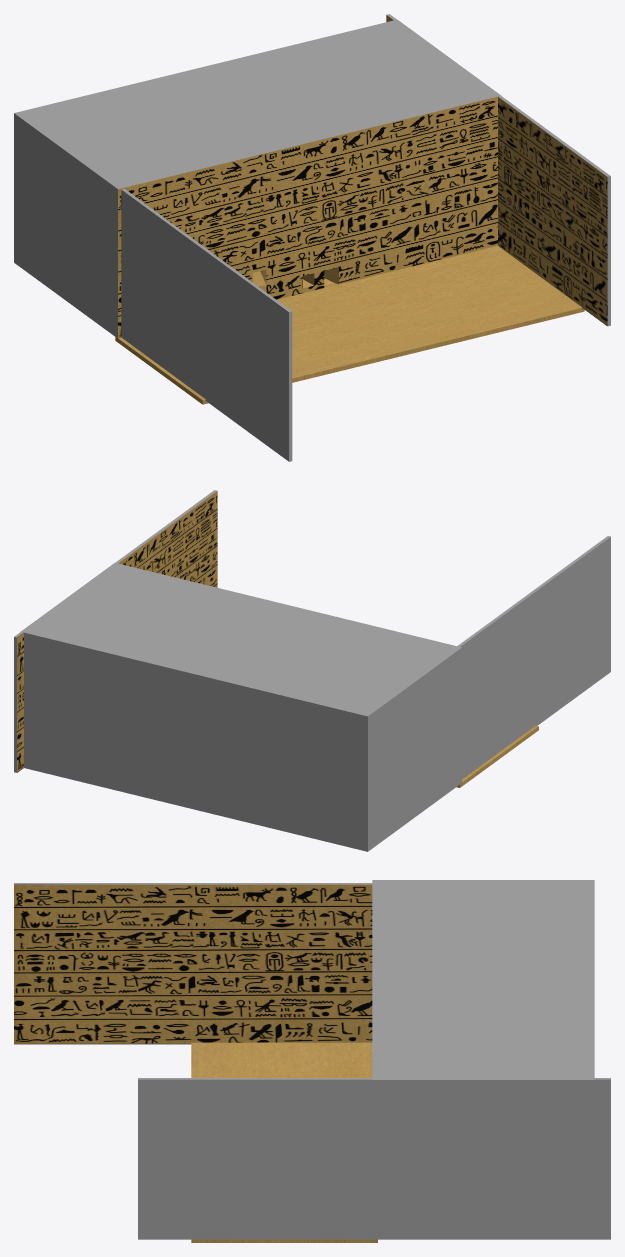
File: Ancient Tutorial Level .fbx
3 renders of one model, top to bottom at view 1: azimuth 30°, elevation 25°; view 2: azimuth 150°, elevation 25°; view 3: azimuth 270°, elevation 25°, orthographic. The views are drawn at different scales.
Parts seen in each view (by area): view 1: Background_Wall, Background_Wall2, Ground, Background_Wall1; view 2: Background_Wall, Background_Wall2, Background_Wall1, Ground; view 3: Background_Wall, Background_Wall2, Background_Wall1, Ground.
Boxes of the visible parts, <box> form: Background_Wall: <box>14,19,501,338</box>; Background_Wall2: <box>121,189,292,461</box>; Ground: <box>115,245,584,404</box>; Background_Wall1: <box>386,14,610,326</box>; Background_Wall: <box>21,563,461,851</box>; Background_Wall2: <box>457,536,610,779</box>; Background_Wall1: <box>14,490,217,772</box>; Ground: <box>456,725,538,787</box>; Background_Wall: <box>372,880,594,1239</box>; Background_Wall2: <box>14,883,372,1044</box>; Background_Wall1: <box>138,1078,610,1239</box>; Ground: <box>191,1042,377,1242</box>.
Bounding box in the file's own units: 275 × 105 × 347.
3 materials, 2 textured.
